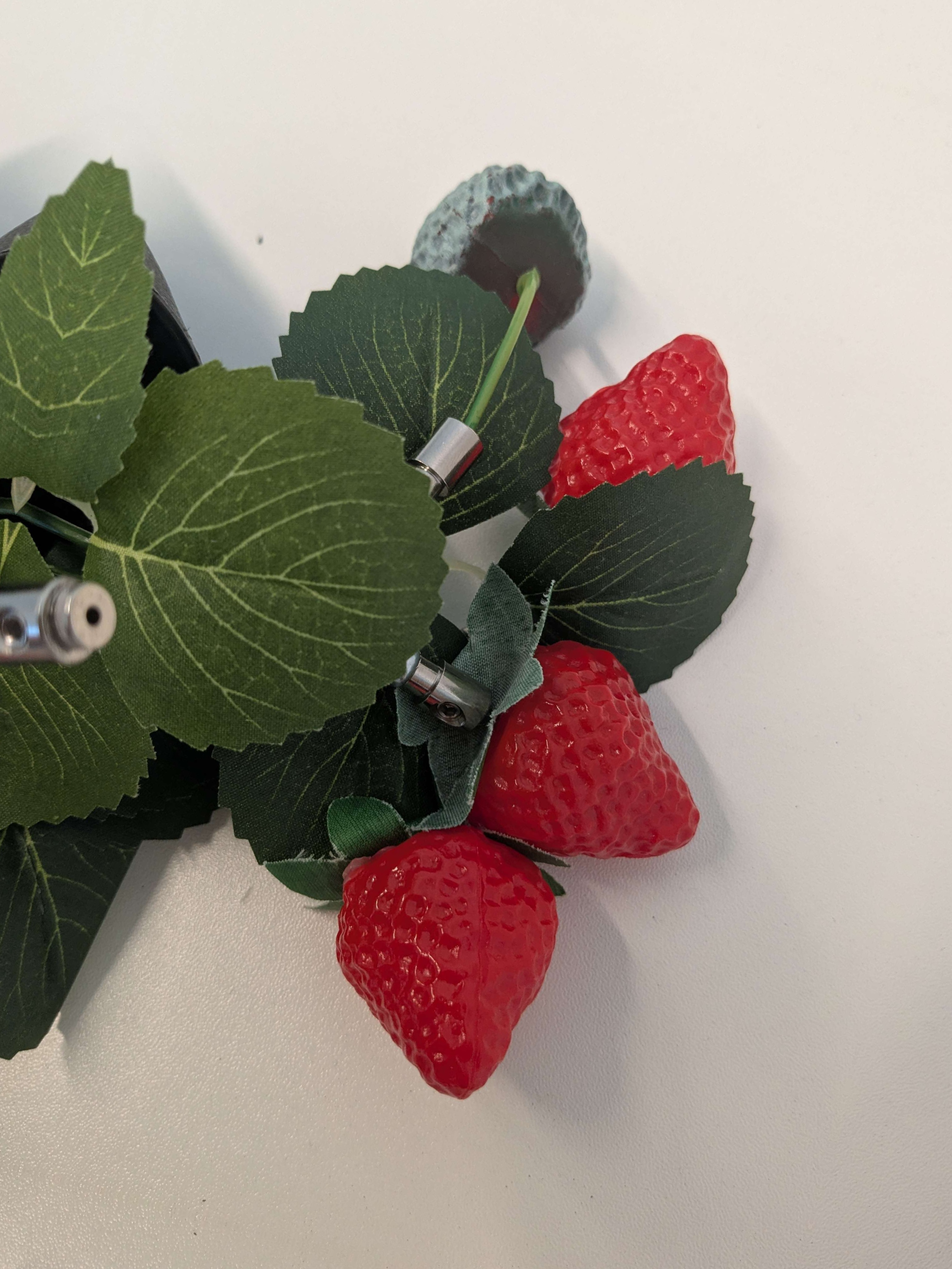Strawberry: (288, 793, 583, 1130), (443, 622, 757, 904), (524, 267, 795, 586)
